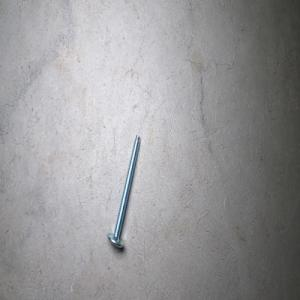Bolt: (106, 133, 140, 248)
